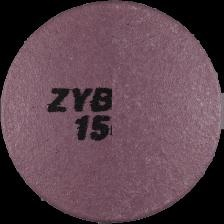0173-0556: (0, 0, 224, 224)
